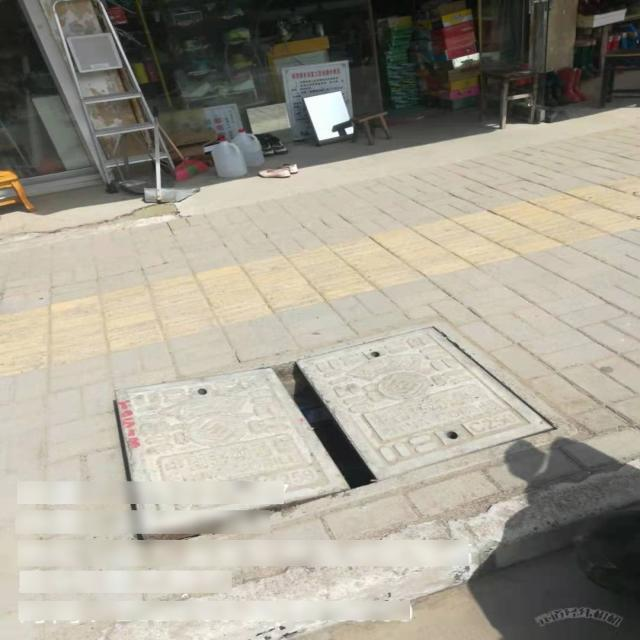Faulty: (112, 324, 558, 546)
